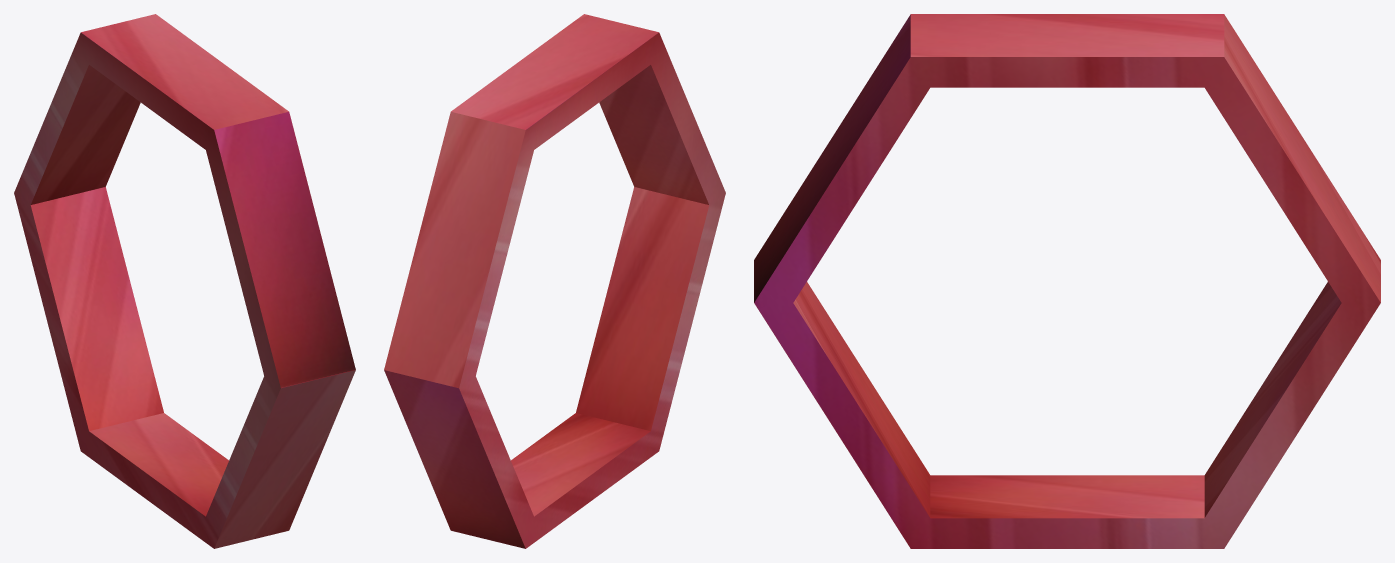
The model's file is gate.dae.
3 renders of one model, left to right at view 1: azimuth 30°, elevation 25°; view 2: azimuth 150°, elevation 25°; view 3: azimuth 270°, elevation 25°, orthographic. The views are drawn at different scales.
Visible parts, largest first — view 1: _c346960f72c2715eaac1c45; view 2: _c346960f72c2715eaac1c45; view 3: _c346960f72c2715eaac1c45.
Boxes of the visible parts, x1,y1,x2,y2 form: _c346960f72c2715eaac1c45: [14, 14, 355, 548]; _c346960f72c2715eaac1c45: [384, 14, 725, 548]; _c346960f72c2715eaac1c45: [754, 14, 1380, 548].
Bounding box in the file's own units: 0.3 × 1.85 × 1.6.
1 material, 1 textured.
